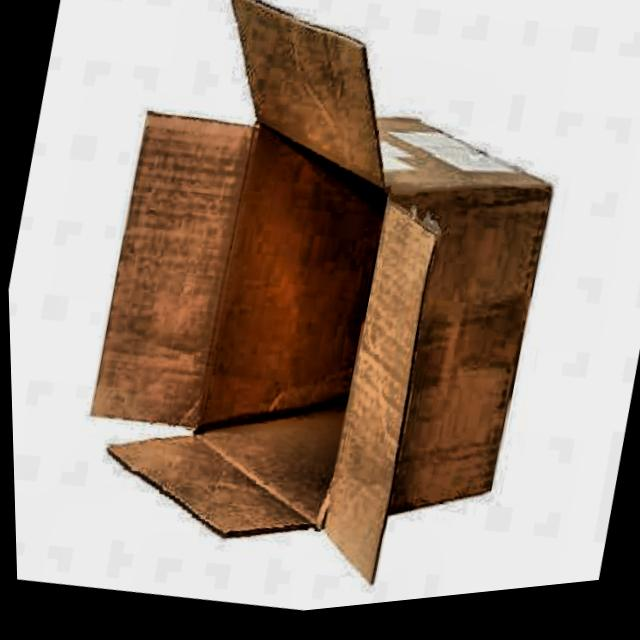Cardbox: (6, 0, 615, 640)
